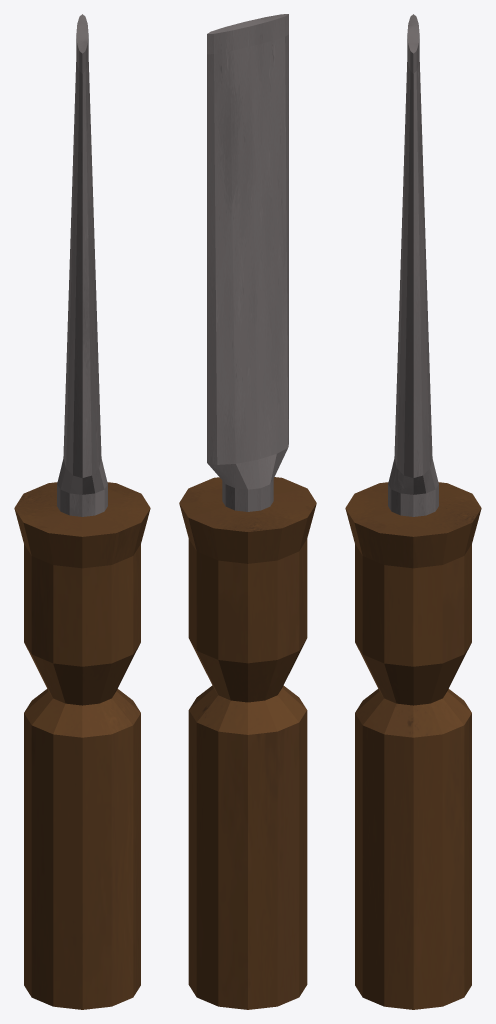
File: chisel.fbx
The picture shows the model from 3 angles, left to right: view 1: azimuth 90°, elevation 25°; view 2: azimuth 210°, elevation 25°; view 3: azimuth 270°, elevation 25°; orthographic projection.
Visible parts, largest first — view 1: Cylinder.010; view 2: Cylinder.010; view 3: Cylinder.010.
Boxes of the visible parts, x1,y1,x2,y2 form: Cylinder.010: [14, 14, 150, 1009]; Cylinder.010: [179, 14, 316, 1009]; Cylinder.010: [345, 14, 481, 1009].
Size of the model in its own units: 0.0967 by 0.7445 by 0.0967.
